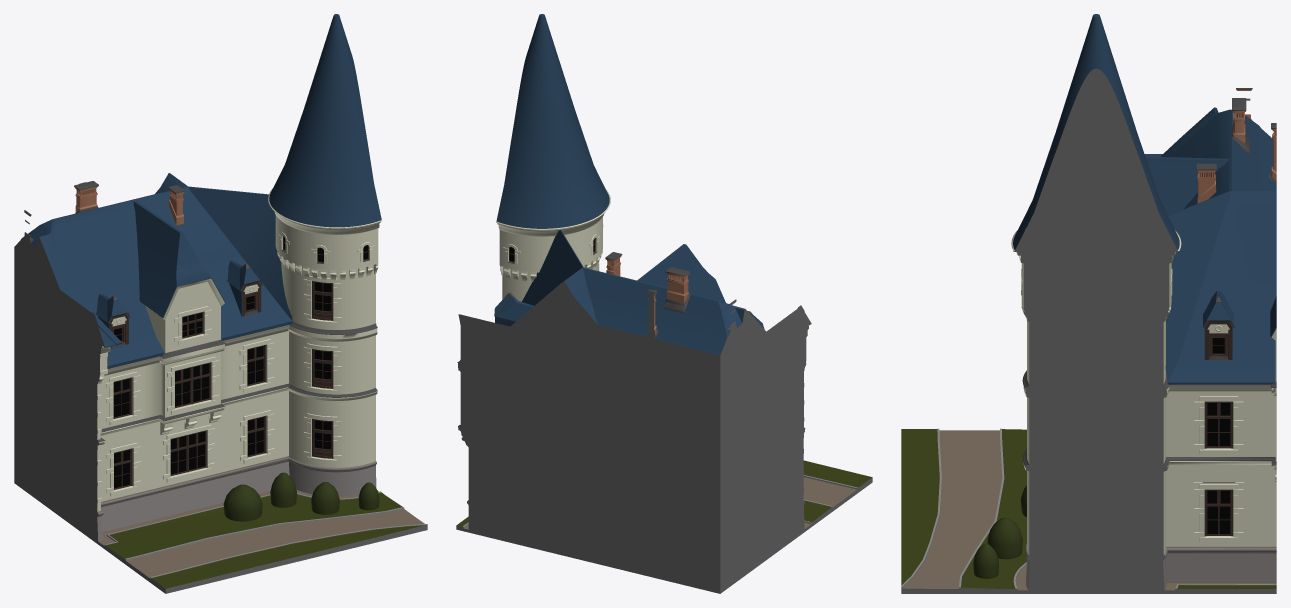
3 views of the same model, side by side, from view 1: azimuth 30°, elevation 25°; view 2: azimuth 150°, elevation 25°; view 3: azimuth 270°, elevation 25° (orthographic). The views are drawn at different scales.
Visible parts, largest first — view 1: Plane.001; view 2: Plane.001; view 3: Plane.001.
Part boxes in pixels (left/top/right/bottom): Plane.001: left=14, top=14, right=427, bottom=593; Plane.001: left=456, top=14, right=872, bottom=593; Plane.001: left=901, top=14, right=1276, bottom=593.
Bounding box in the file's own units: 4 × 6.72 × 4.
